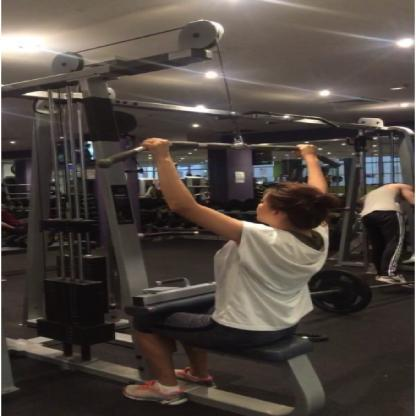Lat Pull Down: (0, 14, 416, 416)
